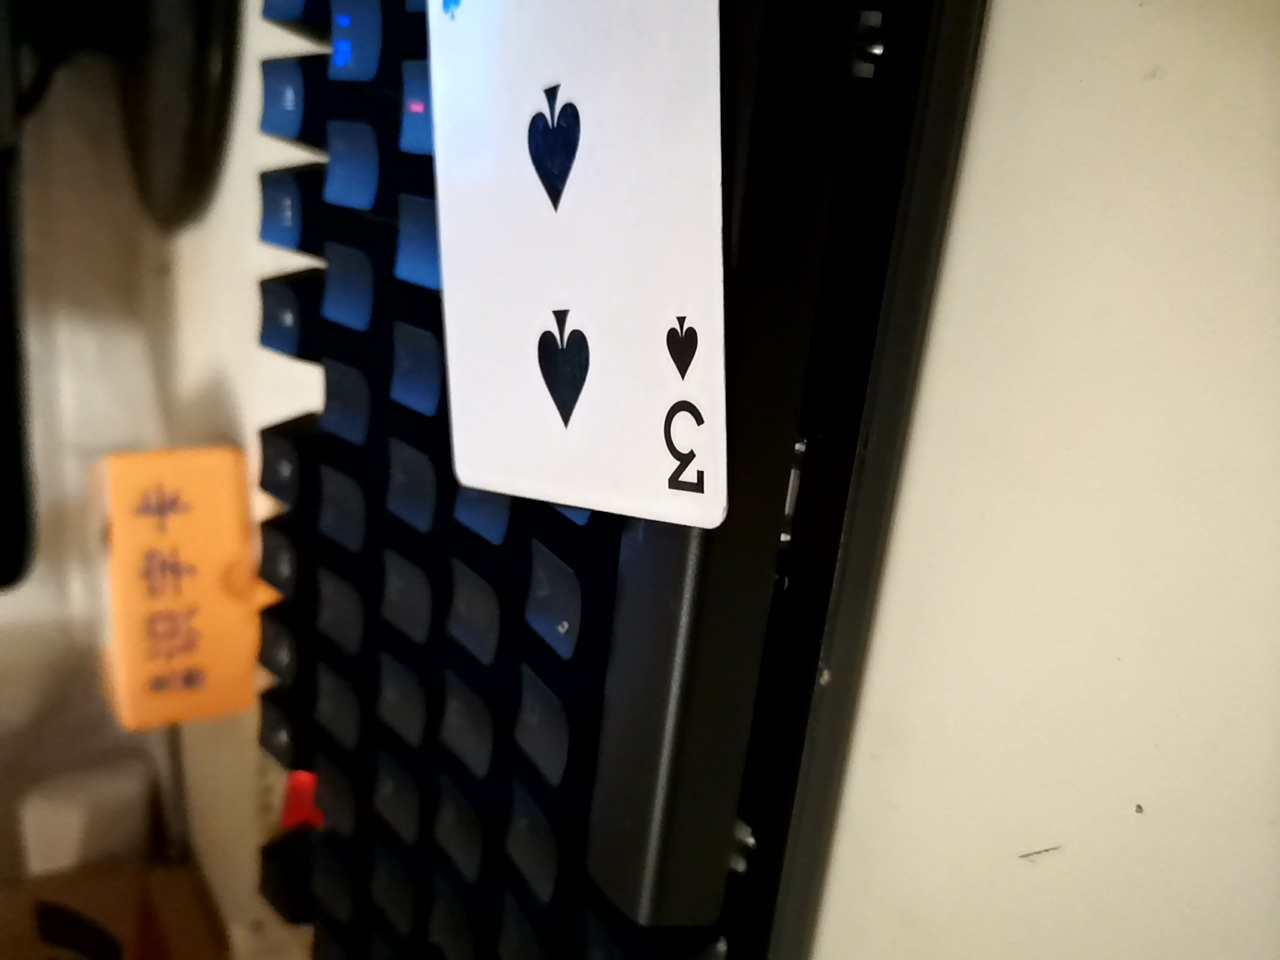ht 3: (401, 3, 709, 543)
